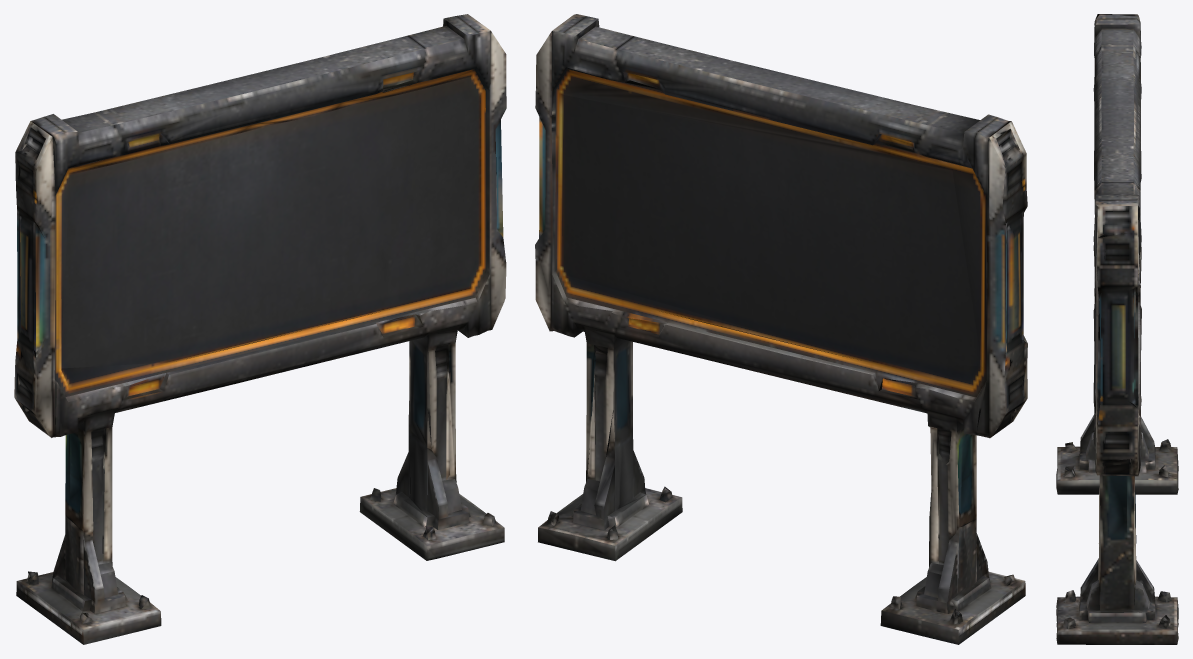
File: kairox-chevron-board.glb
3 renders of one model, left to right at view 1: azimuth 30°, elevation 25°; view 2: azimuth 150°, elevation 25°; view 3: azimuth 270°, elevation 25°, orthographic. The views are drawn at different scales.
Visible parts, largest first — view 1: kairox-chevron-board; view 2: kairox-chevron-board; view 3: kairox-chevron-board.
Boxes of the visible parts, x1=… form: kairox-chevron-board: x1=14, y1=14, x2=506, y2=644; kairox-chevron-board: x1=535, y1=14, x2=1027, y2=644; kairox-chevron-board: x1=1056, y1=14, x2=1178, y2=644.
Bounding box in the file's own units: 2.4 × 2.4 × 0.6.
1 material, 1 textured.
